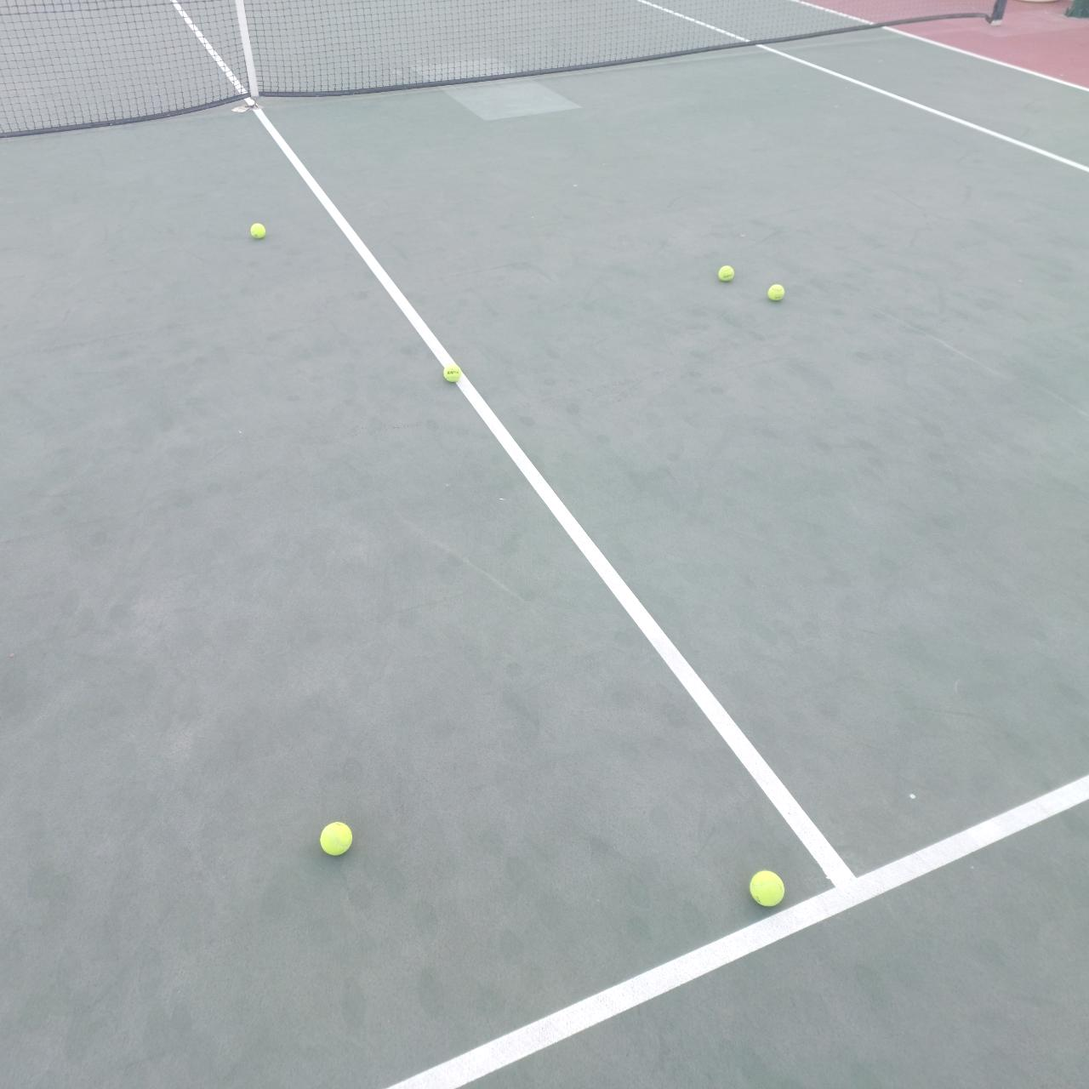tennis-ball: (750, 867, 787, 907), (319, 818, 355, 857), (443, 361, 464, 383), (767, 282, 786, 301), (718, 263, 736, 282), (251, 220, 268, 239)
